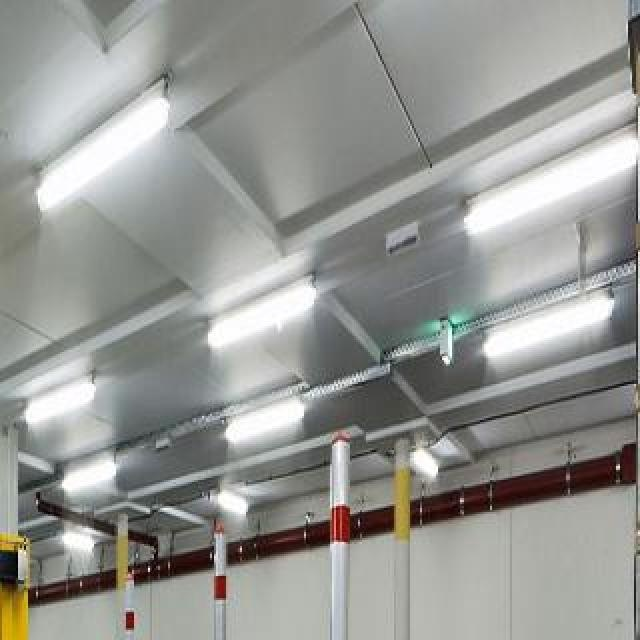fluorescent tube: (13, 83, 189, 245), (435, 118, 638, 255), (177, 264, 335, 376), (460, 291, 638, 374), (13, 367, 129, 440), (216, 378, 331, 447), (51, 433, 140, 509)
